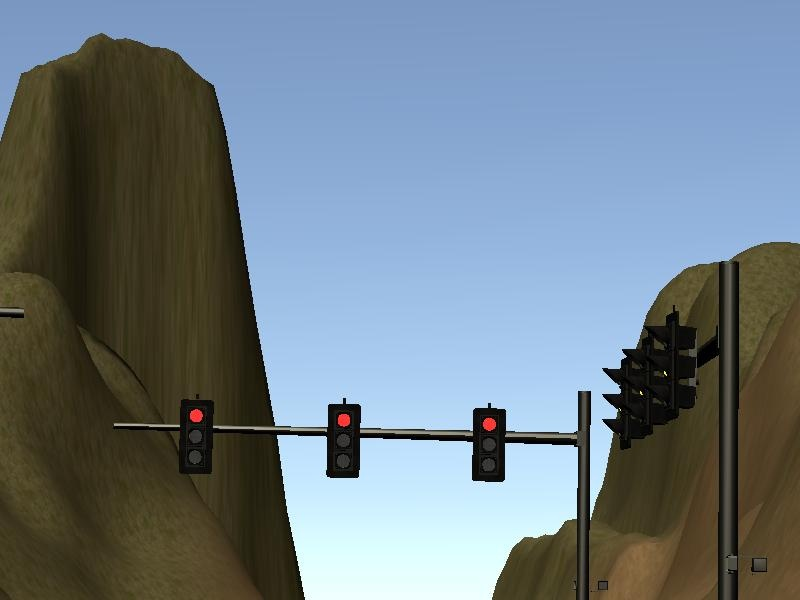RED: (179, 400, 214, 474), (325, 403, 360, 477), (472, 407, 507, 481)
